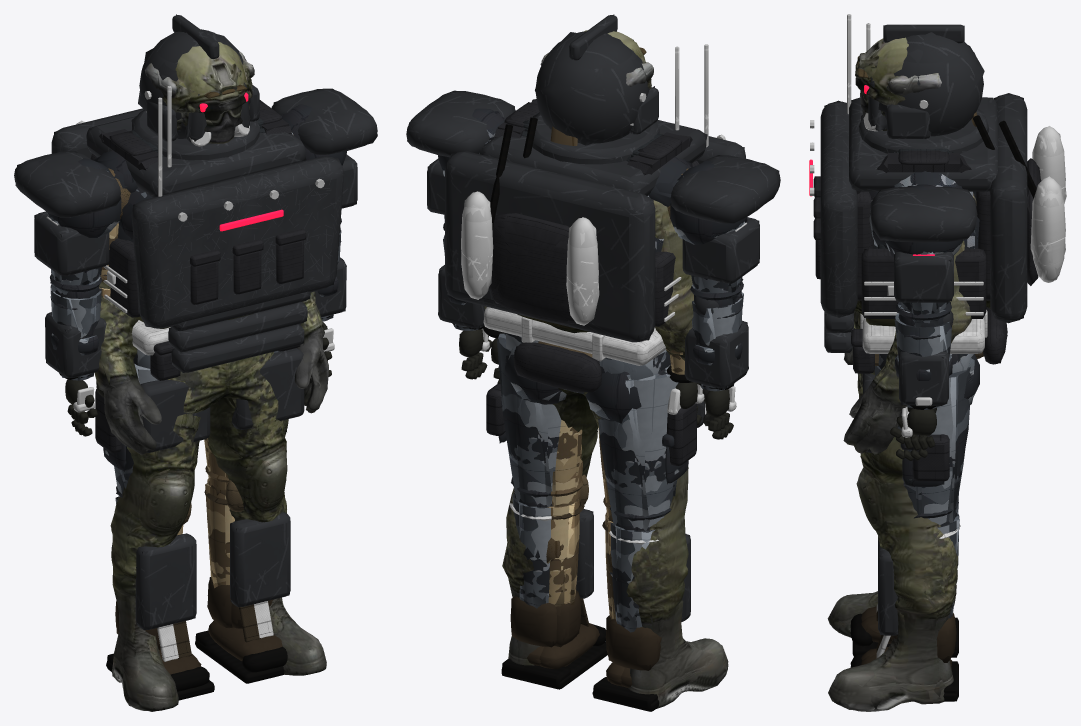
Rendered from chars.glb.
The picture shows the model from 3 angles, left to right: view 1: azimuth 30°, elevation 25°; view 2: azimuth 150°, elevation 25°; view 3: azimuth 270°, elevation 25°; orthographic projection. The views are drawn at different scales.
Visible parts, largest first — view 1: spine_boss_boss_plate, spine_boss_boss_vest, shoulderR_boss_boss_plate, ai_legR_soldier, ai_kneeR_soldier, kneeR_boss_boss_plate, kneeL_boss_boss_plate, ai_legL_soldier, head_boss_boss_plate, ai_head_soldier, shoulderL_boss_boss_plate, LOD_ai_legL_soldier (+41 smaller); view 2: spine_boss_boss_plate, spine_boss_boss_vest, head_boss_boss_plate, legR_boss_boss_uni, shoulderR_boss_boss_plate, ai_kneeR_soldier, spine_boss_c_dark, legL_boss_boss_uni, shoulderL_boss_boss_plate, hips_boss_boss_strap, LOD_ai_kneeR_soldier, hips_boss_boss_vest (+45 smaller); view 3: spine_boss_boss_plate, ai_kneeL_soldier, spine_boss_boss_vest, head_boss_boss_plate, shoulderL_boss_boss_plate, LOD_ai_kneeL_soldier, spine_boss_c_dark, legL_boss_boss_uni, ai_legL_soldier, ai_head_soldier, elbowL_boss_boss_plate, LOD_shoulderL_boss_boss_plate (+27 smaller).
Boxes of the visible parts, x1=… form: spine_boss_boss_plate: x1=51, y1=108, x2=344, y2=372; spine_boss_boss_vest: x1=90, y1=102, x2=306, y2=317; shoulderR_boss_boss_plate: x1=14, y1=151, x2=120, y2=275; ai_legR_soldier: x1=115, y1=369, x2=234, y2=526; ai_kneeR_soldier: x1=111, y1=499, x2=184, y2=710; kneeR_boss_boss_plate: x1=135, y1=534, x2=196, y2=629; kneeL_boss_boss_plate: x1=230, y1=512, x2=290, y2=606; ai_legL_soldier: x1=208, y1=352, x2=288, y2=502; head_boss_boss_plate: x1=139, y1=15, x2=259, y2=142; ai_head_soldier: x1=145, y1=44, x2=254, y2=143; shoulderL_boss_boss_plate: x1=271, y1=89, x2=377, y2=208; LOD_ai_legL_soldier: x1=208, y1=352, x2=287, y2=507; spine_boss_boss_plate: x1=445, y1=100, x2=745, y2=342; spine_boss_boss_vest: x1=489, y1=100, x2=699, y2=326; head_boss_boss_plate: x1=535, y1=15, x2=658, y2=143; legR_boss_boss_uni: x1=585, y1=365, x2=688, y2=528; shoulderR_boss_boss_plate: x1=670, y1=155, x2=780, y2=283; ai_kneeR_soldier: x1=626, y1=505, x2=728, y2=706; spine_boss_c_dark: x1=461, y1=44, x2=725, y2=324; legL_boss_boss_uni: x1=498, y1=333, x2=566, y2=505; shoulderL_boss_boss_plate: x1=406, y1=91, x2=515, y2=214; hips_boss_boss_strap: x1=484, y1=307, x2=666, y2=365; LOD_ai_kneeR_soldier: x1=627, y1=511, x2=728, y2=708; hips_boss_boss_vest: x1=513, y1=342, x2=601, y2=392; spine_boss_boss_plate: x1=820, y1=94, x2=1027, y2=352; ai_kneeL_soldier: x1=828, y1=520, x2=958, y2=711; spine_boss_boss_vest: x1=813, y1=150, x2=1041, y2=318; head_boss_boss_plate: x1=868, y1=24, x2=983, y2=138; shoulderL_boss_boss_plate: x1=870, y1=186, x2=977, y2=302; LOD_ai_kneeL_soldier: x1=828, y1=518, x2=957, y2=711; spine_boss_c_dark: x1=810, y1=14, x2=1065, y2=295; legL_boss_boss_uni: x1=877, y1=355, x2=979, y2=524; ai_legL_soldier: x1=857, y1=373, x2=940, y2=535; ai_head_soldier: x1=855, y1=37, x2=941, y2=129; elbowL_boss_boss_plate: x1=899, y1=311, x2=953, y2=405; LOD_shoulderL_boss_boss_plate: x1=870, y1=186, x2=977, y2=301.
Bounding box in the file's own units: 1.05 × 1.92 × 0.6964.
42 materials, 29 textured.
